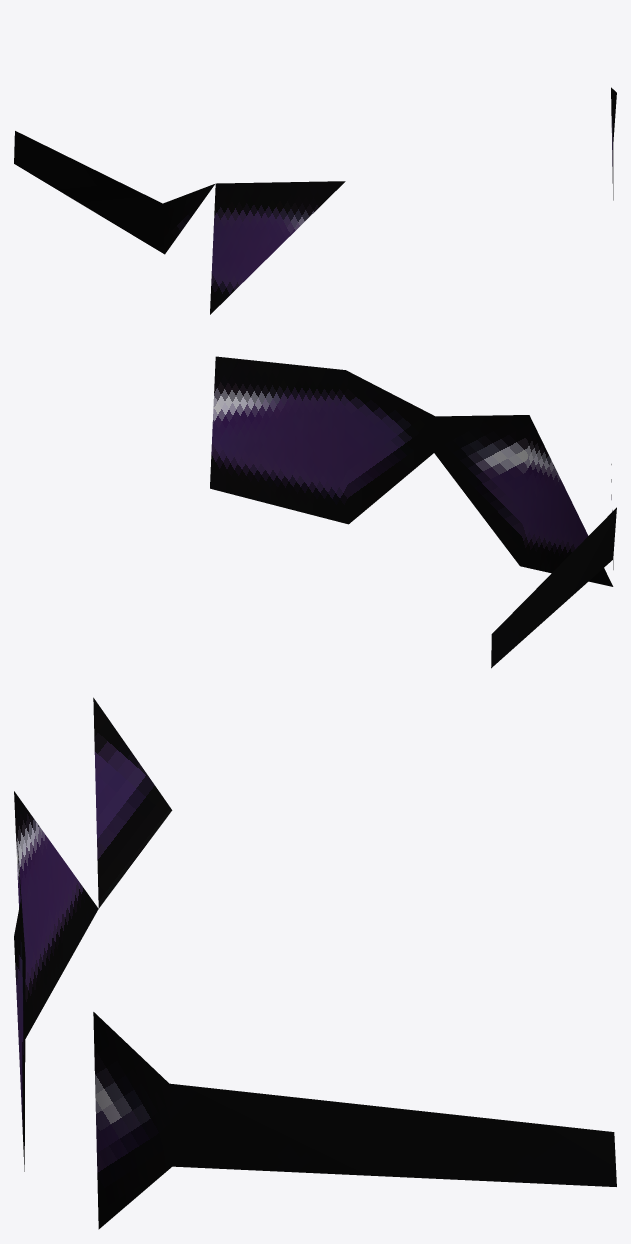
File: tt_m_chr_avt_acc_msk_narrowGlasses.glb
The picture shows the model from 3 angles, top to bottom: view 1: azimuth 30°, elevation 25°; view 2: azimuth 150°, elevation 25°; view 3: azimuth 270°, elevation 25°; orthographic projection. The views are drawn at different scales.
Parts seen in each view (by area): view 1: narrowGlasses; view 2: narrowGlasses; view 3: narrowGlasses.
Boxes of the visible parts, x1,y1,x2,y2 form: narrowGlasses: (14,87,616,314); narrowGlasses: (210,356,616,668); narrowGlasses: (14,697,616,1229).
Size of the model in its own units: 3.46 by 1.08 by 2.33.
1 material, 1 textured.
